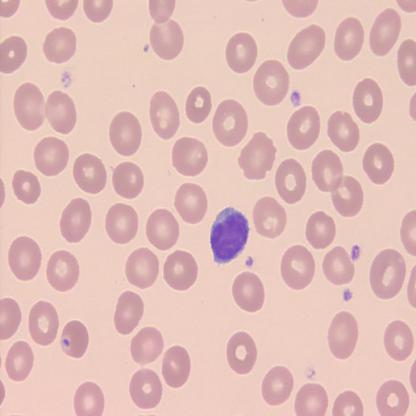Lymphocyte: (209, 207, 250, 264)
